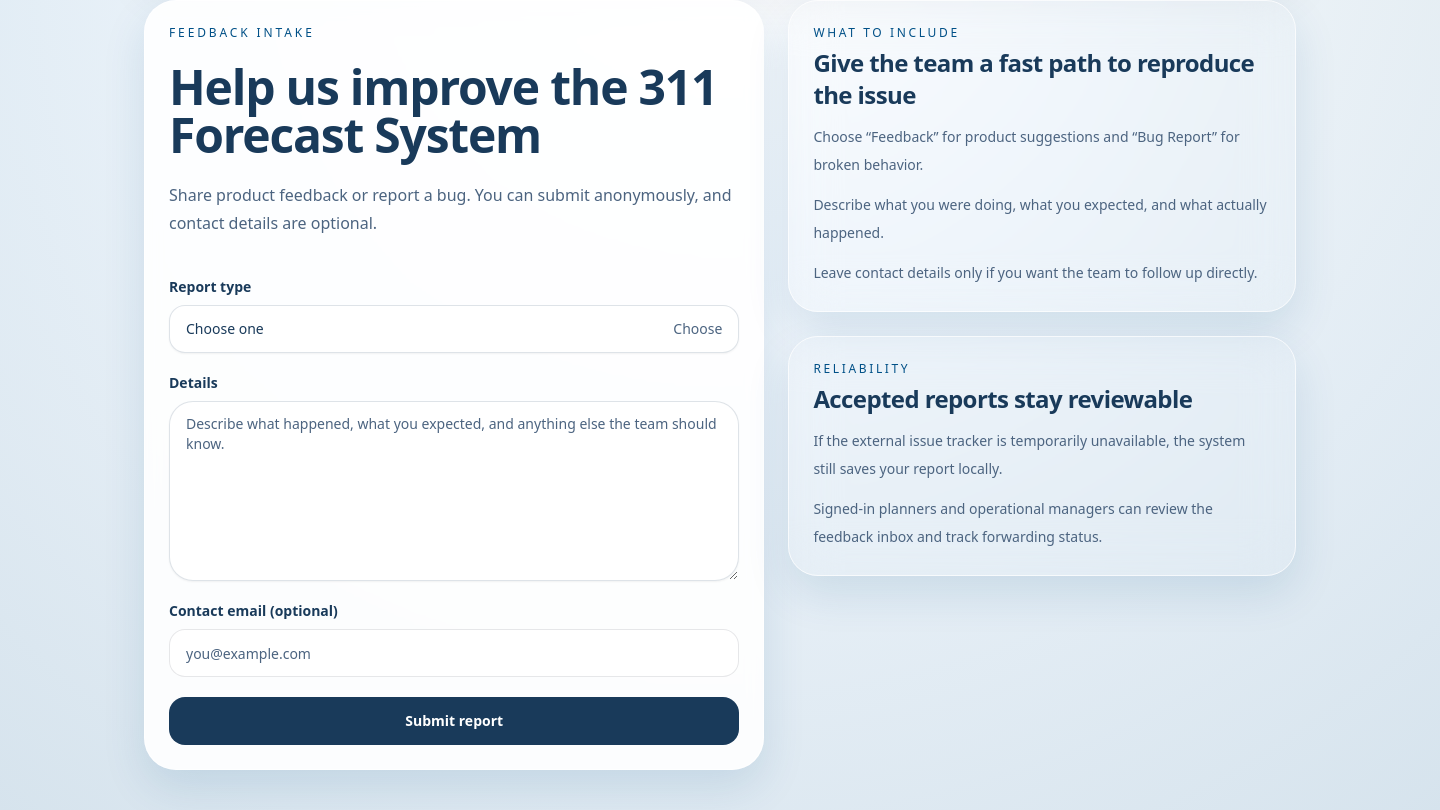
Scenario: feedback submission flow › shows client-side validation errors before sending the request
The image size is (1440, 810).
(page scrolled)
Click the button with aria-label "submit feedback": (454, 721) [169,697,739,745]
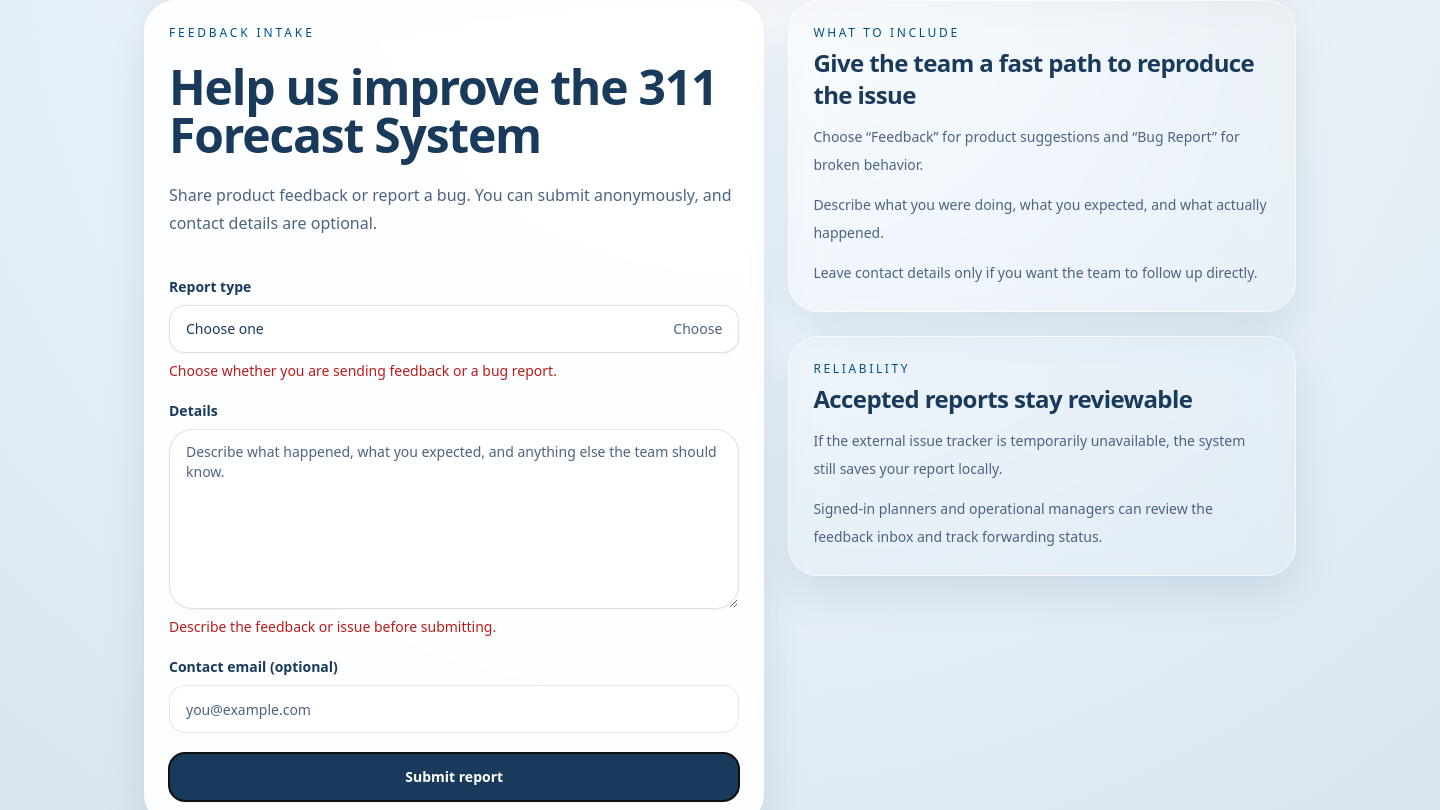
Check: the text "Choose whether you are sending feedback or a bug report." is shown, box [169,361,557,380]
Check: the text "Describe the feedback or issue before submitting." is shown, box [169,617,496,636]
